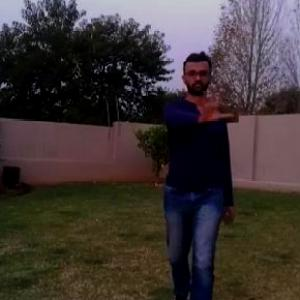follow_hand: (187, 84, 236, 123)
